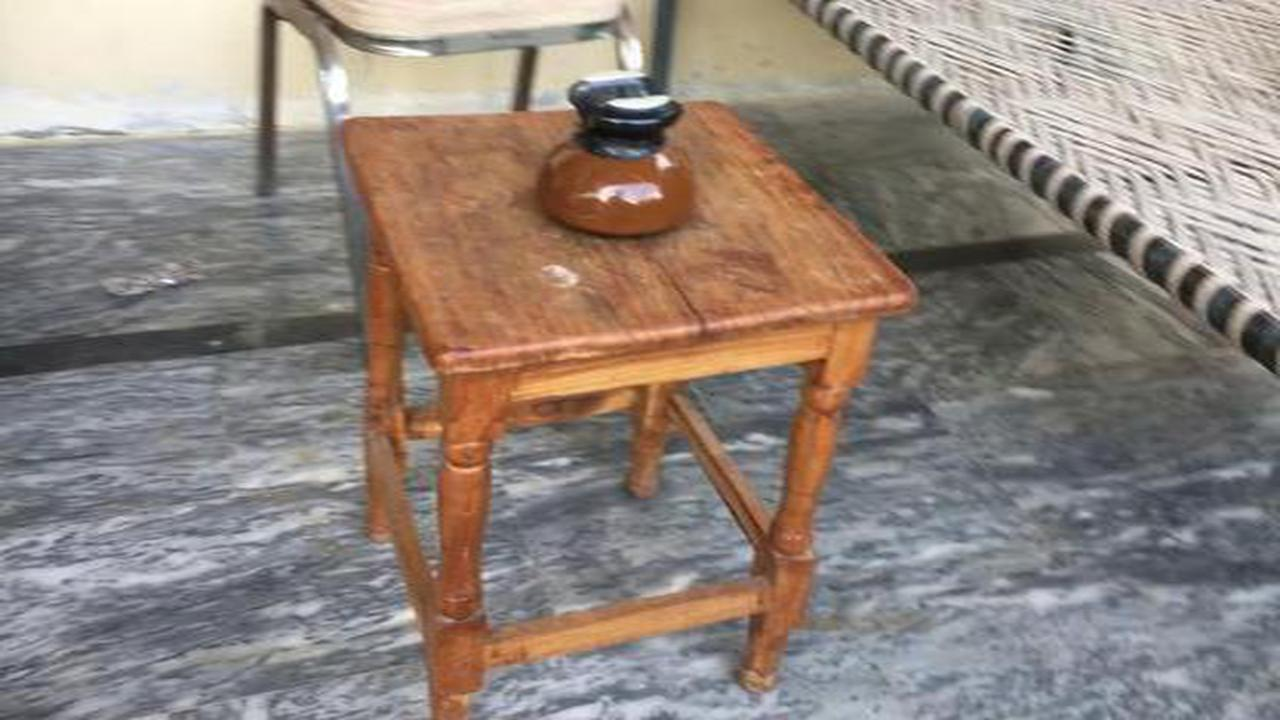insulator_pin: (514, 63, 724, 251)
